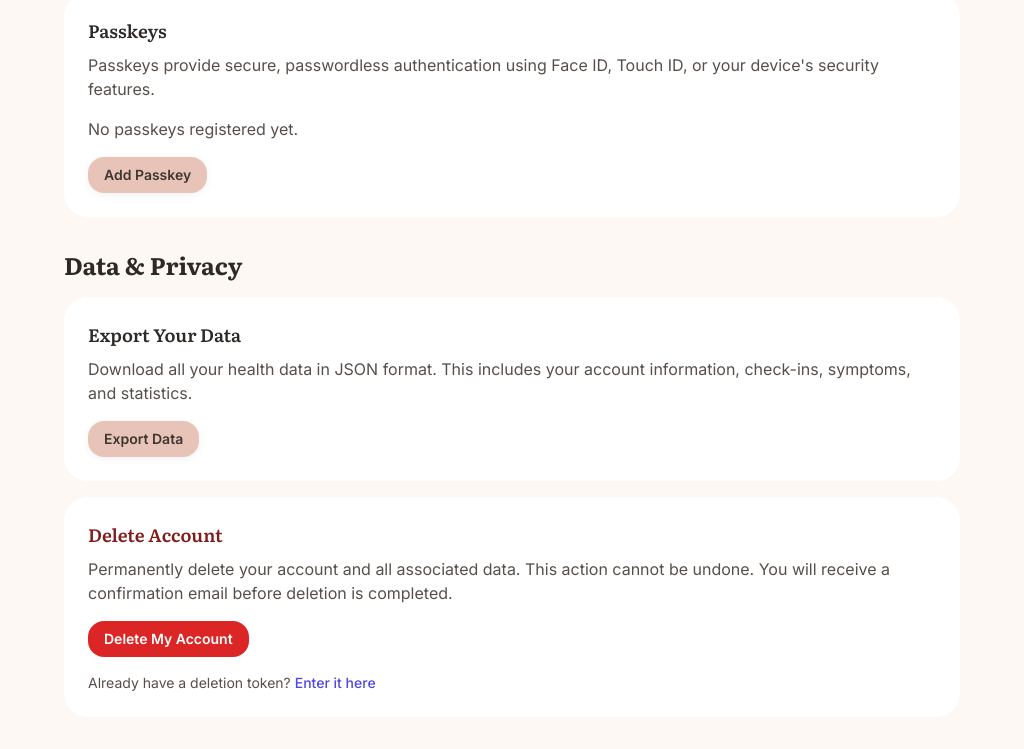
Test case: SettingsPage › Delete Account › should send deletion request when confirmed
(page scrolled)
Click delete button
Click the button "Delete My Account" at (168, 639), box [88,621,249,657]
(page scrolled)
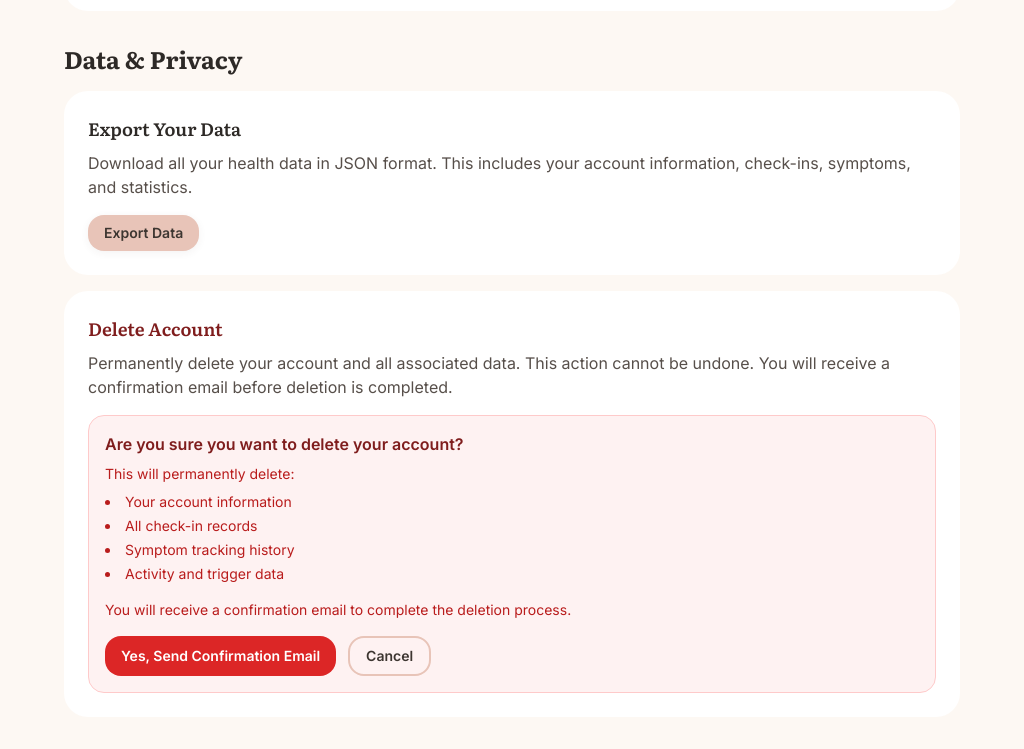
Confirm deletion
Click the button "Yes, Send Confirmation Email" at (221, 656), box [105,636,336,676]
(page scrolled)
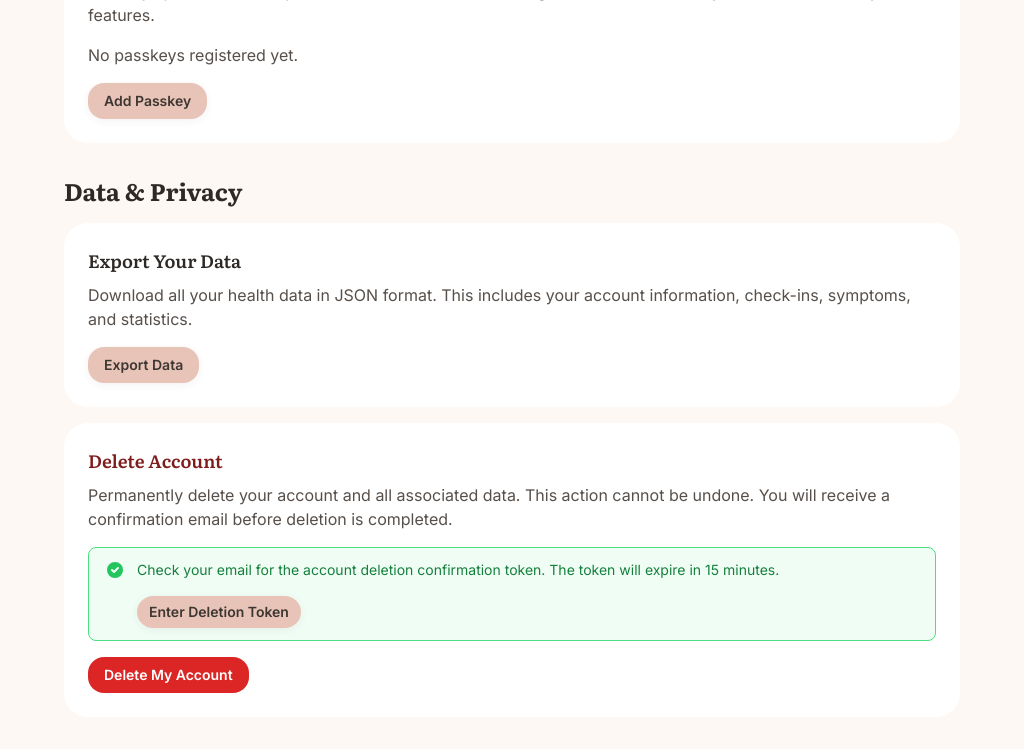
Check: the text "Check your email" is shown, box [137,561,779,578]
